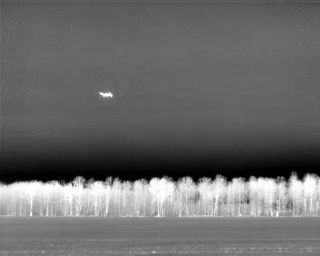DRONE: (95, 86, 117, 102)
